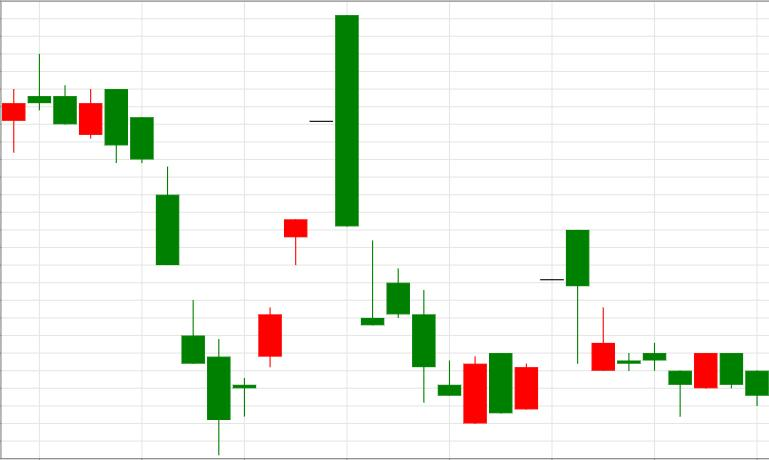bullish_engulfing_rise: (335, 15, 487, 424)
